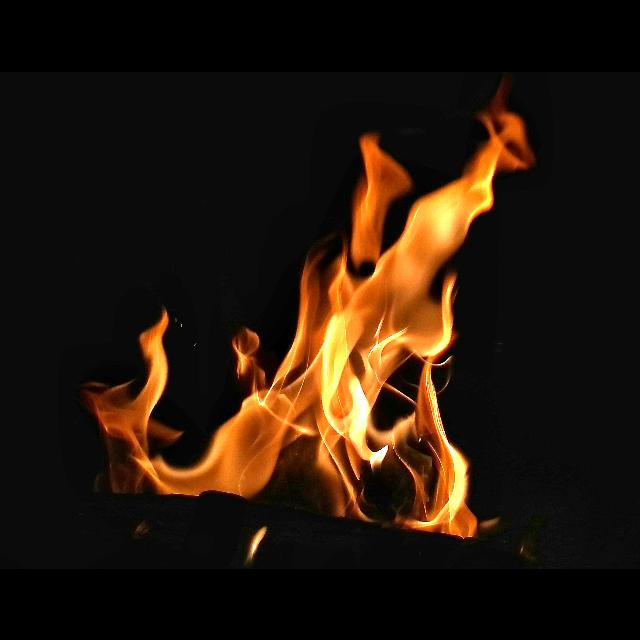fire: (83, 82, 535, 537)
